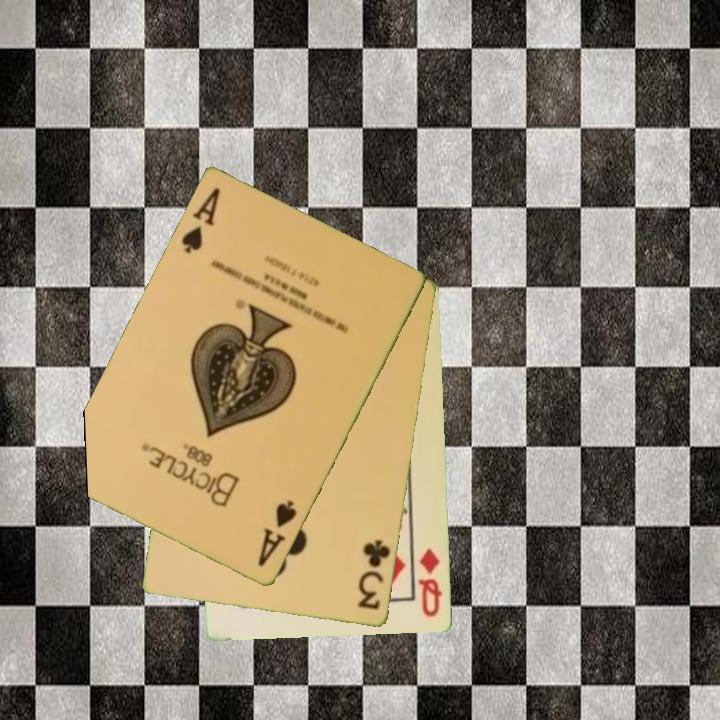3c: (354, 536, 394, 613)
As: (254, 497, 300, 570), (177, 184, 223, 257)
Qd: (415, 545, 446, 620)
